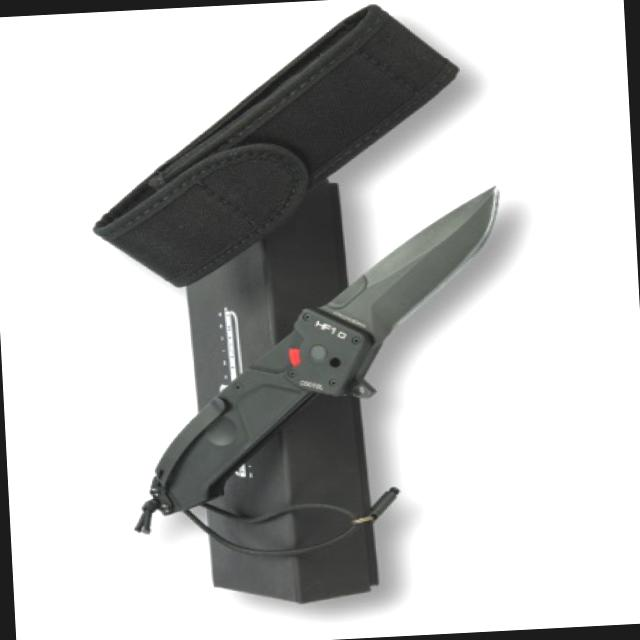knife: (300, 176, 510, 362)
